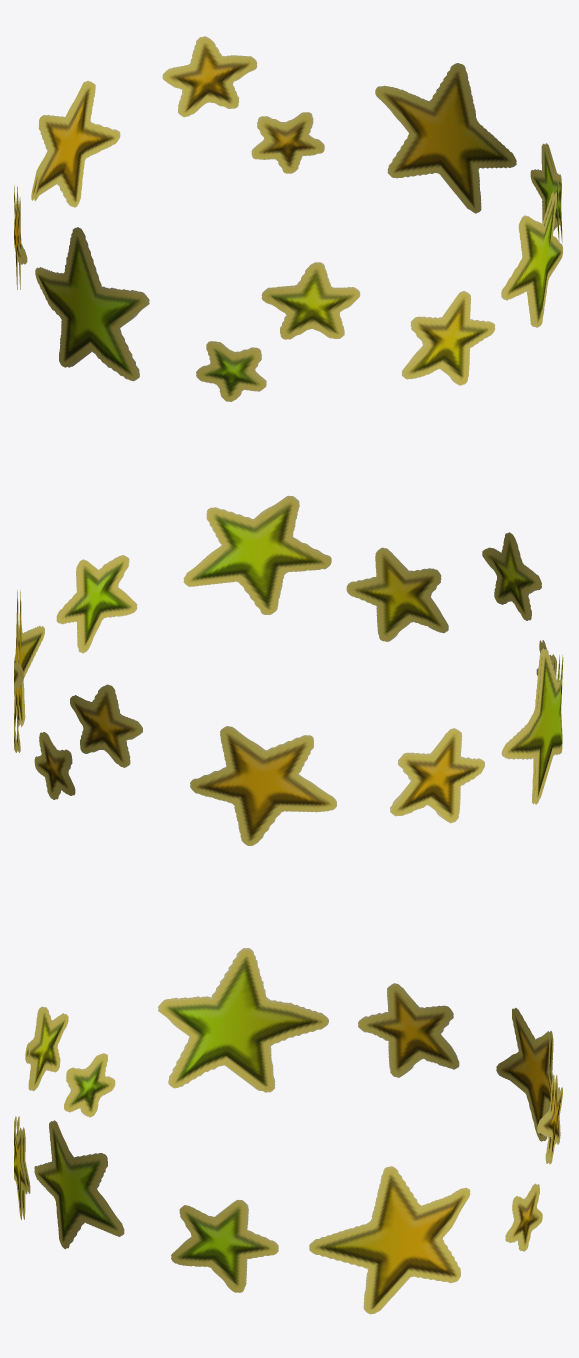
File: starsOBJ.fbx
3 views of the same model, one above another, from view 1: azimuth 30°, elevation 25°; view 2: azimuth 150°, elevation 25°; view 3: azimuth 270°, elevation 25° (orthographic).
Parts seen in each view (by area): view 1: starsOUT, starsIN; view 2: starsOUT, starsIN; view 3: starsOUT, starsIN.
Boxes of the visible parts, box(x1,y1,x2,y2) form: starsOUT: box(14, 36, 563, 401); starsIN: box(17, 37, 559, 393); starsOUT: box(14, 495, 563, 845); starsIN: box(17, 497, 559, 816); starsOUT: box(14, 948, 562, 1314); starsIN: box(17, 949, 559, 1309).
Bounding box in the file's own units: 135 × 51.39 × 135.
